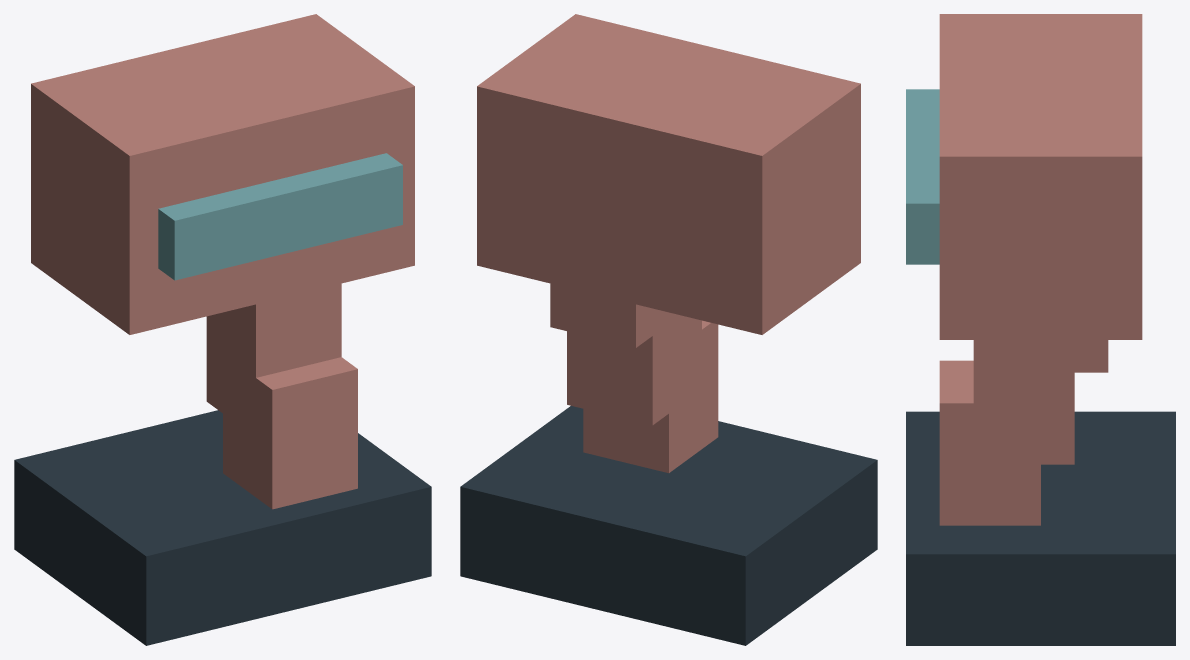
File: commerce-06.glb
The picture shows the model from 3 angles, left to right: view 1: azimuth 30°, elevation 25°; view 2: azimuth 150°, elevation 25°; view 3: azimuth 270°, elevation 25°; orthographic projection. The views are drawn at different scales.
Visible parts, largest first — view 1: Barcode scanner; view 2: Barcode scanner; view 3: Barcode scanner.
Boxes of the visible parts, x1,y1,x2,y2 form: Barcode scanner: [14, 14, 431, 645]; Barcode scanner: [460, 14, 877, 645]; Barcode scanner: [906, 14, 1175, 645].
Bounding box in the file's own units: 0.8 × 1.28 × 0.64.
